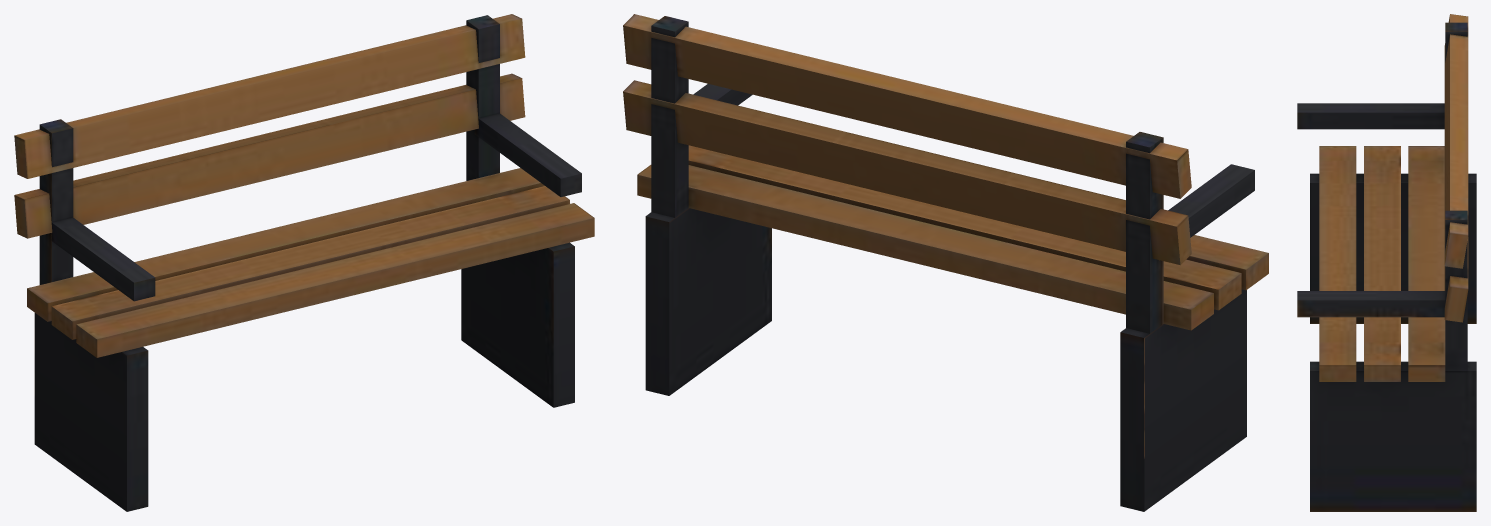
The model's file is banco.glb.
3 renders of one model, left to right at view 1: azimuth 30°, elevation 25°; view 2: azimuth 150°, elevation 25°; view 3: azimuth 270°, elevation 25°, orthographic. The views are drawn at different scales.
Parts seen in each view (by area): view 1: banco; view 2: banco; view 3: banco.
Part boxes in pixels (box(x1,y1,x2,y2)): banco: box(14, 14, 594, 511); banco: box(623, 14, 1268, 511); banco: box(1297, 14, 1476, 511).
Size of the model in its own units: 1.4 by 0.87 by 0.485.
1 material, 1 textured.
